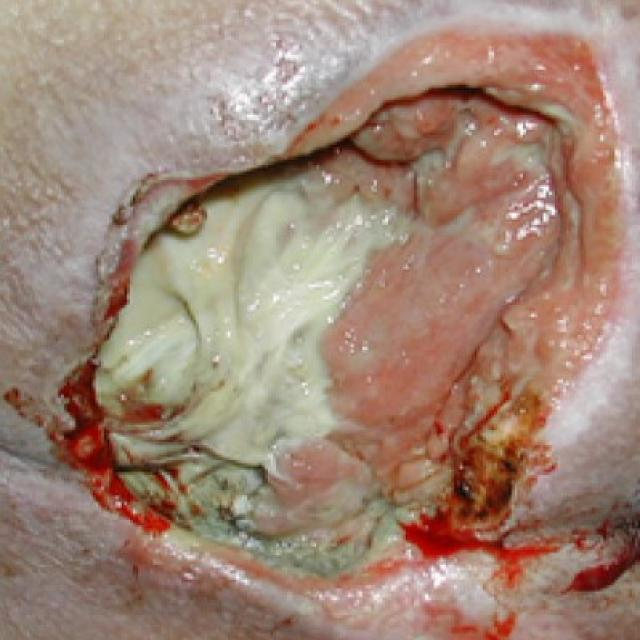stage-4: (67, 36, 624, 577)
